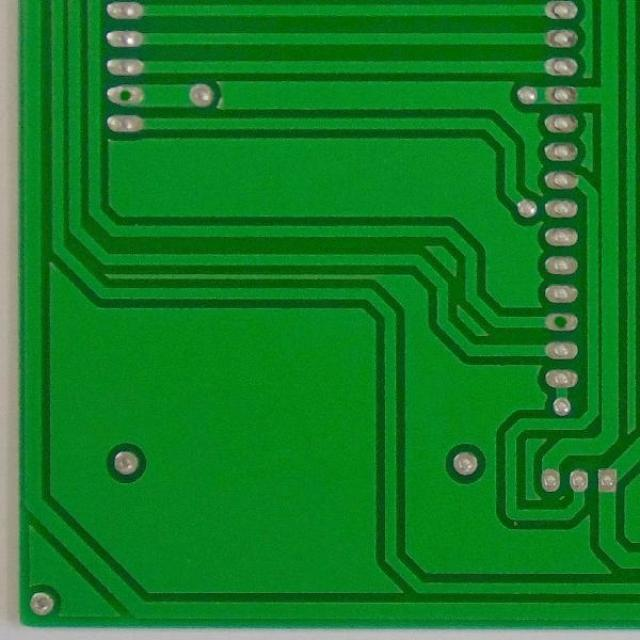Missing_Hole: (106, 82, 146, 105), (542, 312, 580, 335)
